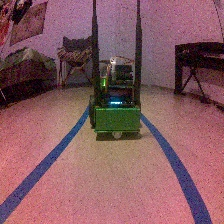rob: (89, 58, 141, 139)
